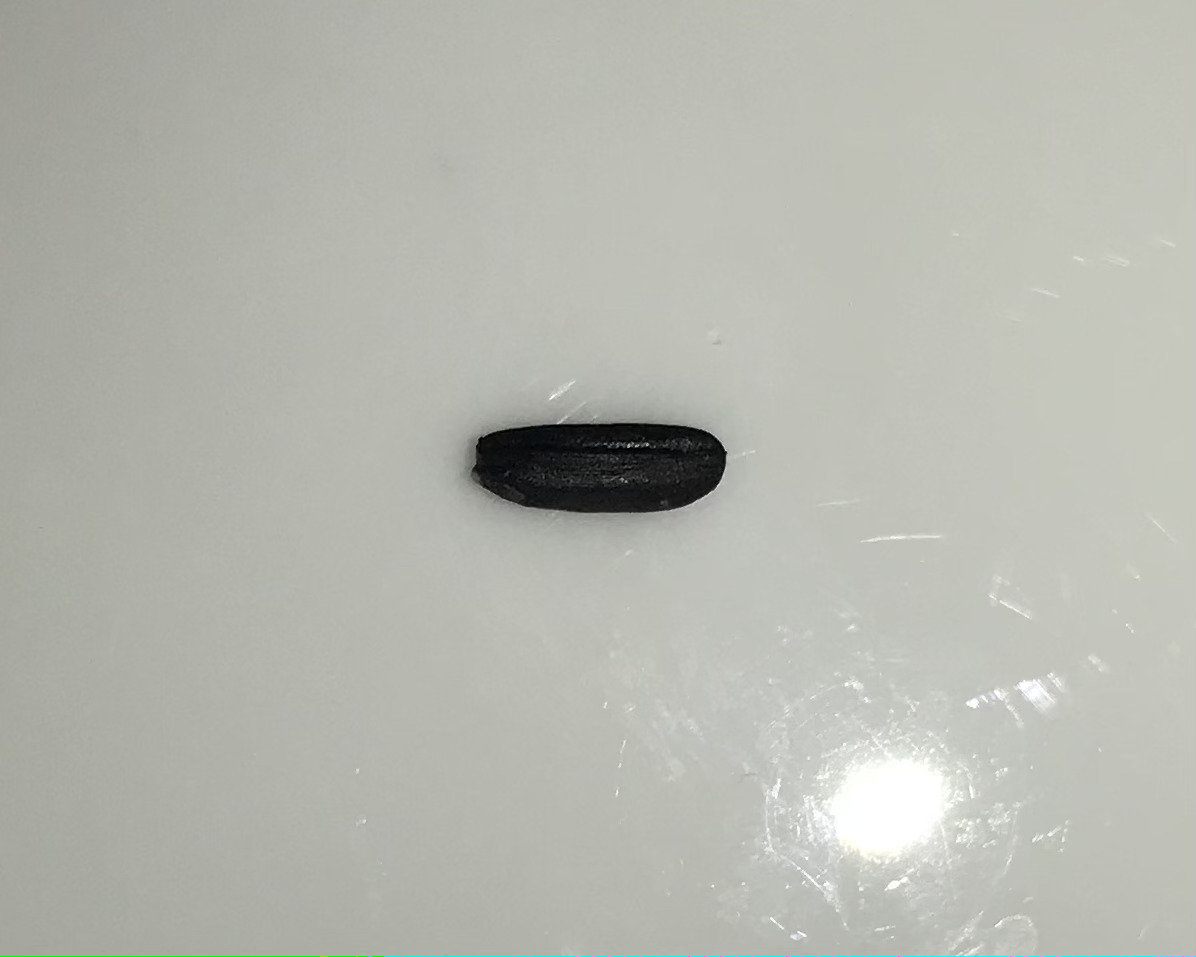Gao lut: (470, 418, 729, 516)
